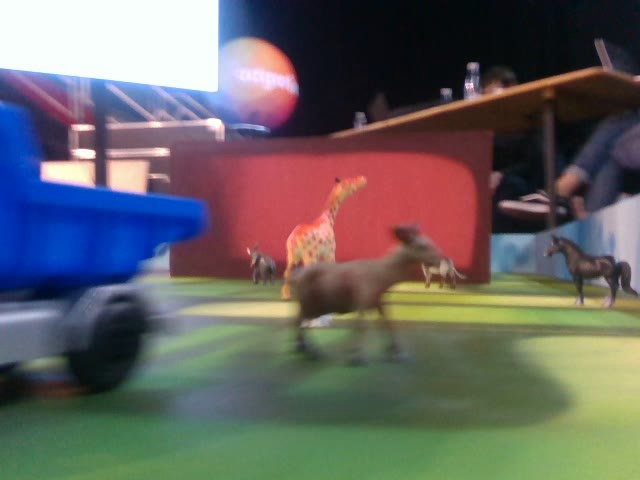toy: (536, 226, 639, 314)
